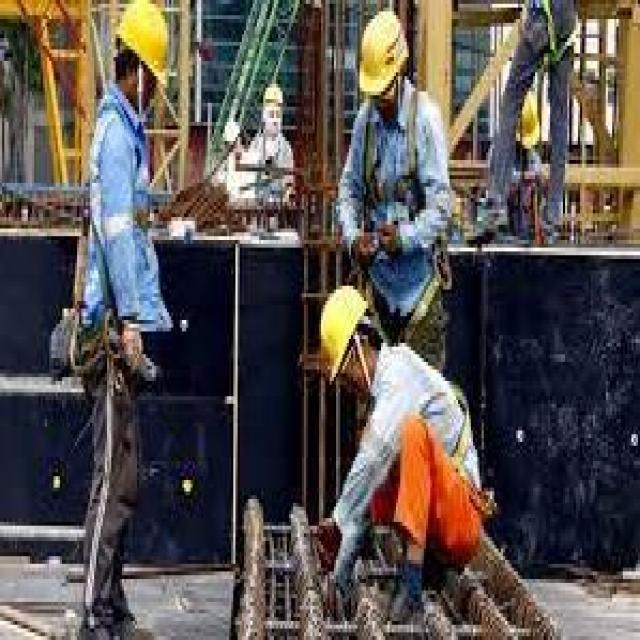Reflective-Jacket: (366, 339, 488, 575)
Safety-Helmet: (310, 271, 379, 396), (351, 4, 413, 103), (111, 0, 173, 91), (255, 72, 289, 126)
